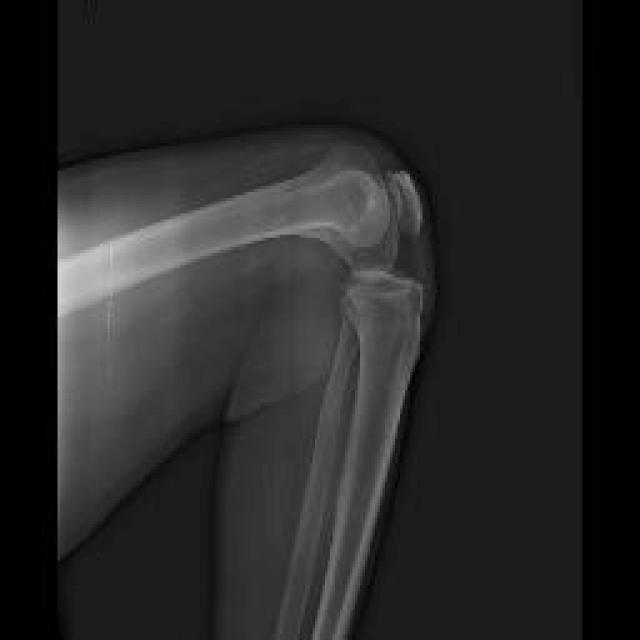normal: (61, 145, 422, 638)
